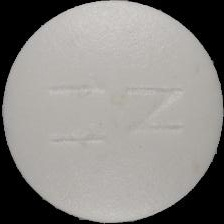54868-0050: (0, 0, 224, 224)
